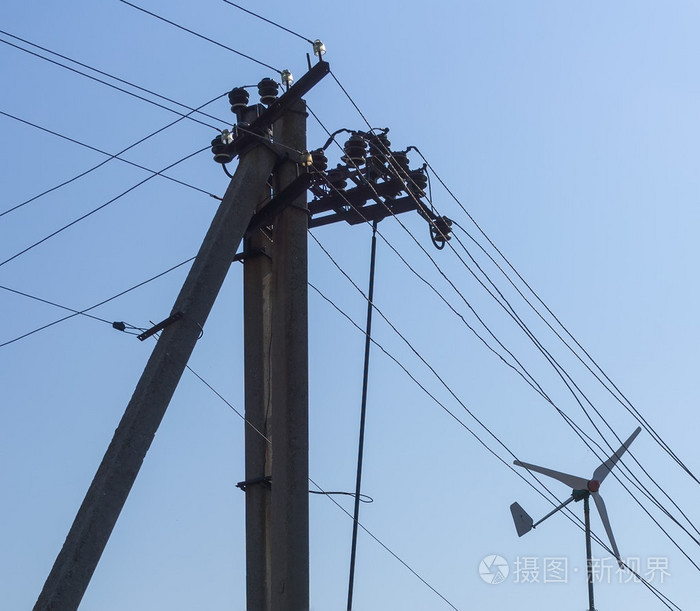insulator: (342, 134, 371, 162), (369, 129, 390, 165), (208, 133, 235, 159), (405, 168, 428, 198), (430, 214, 455, 241), (388, 151, 408, 182), (224, 85, 251, 105), (310, 147, 333, 170), (255, 77, 281, 96)
